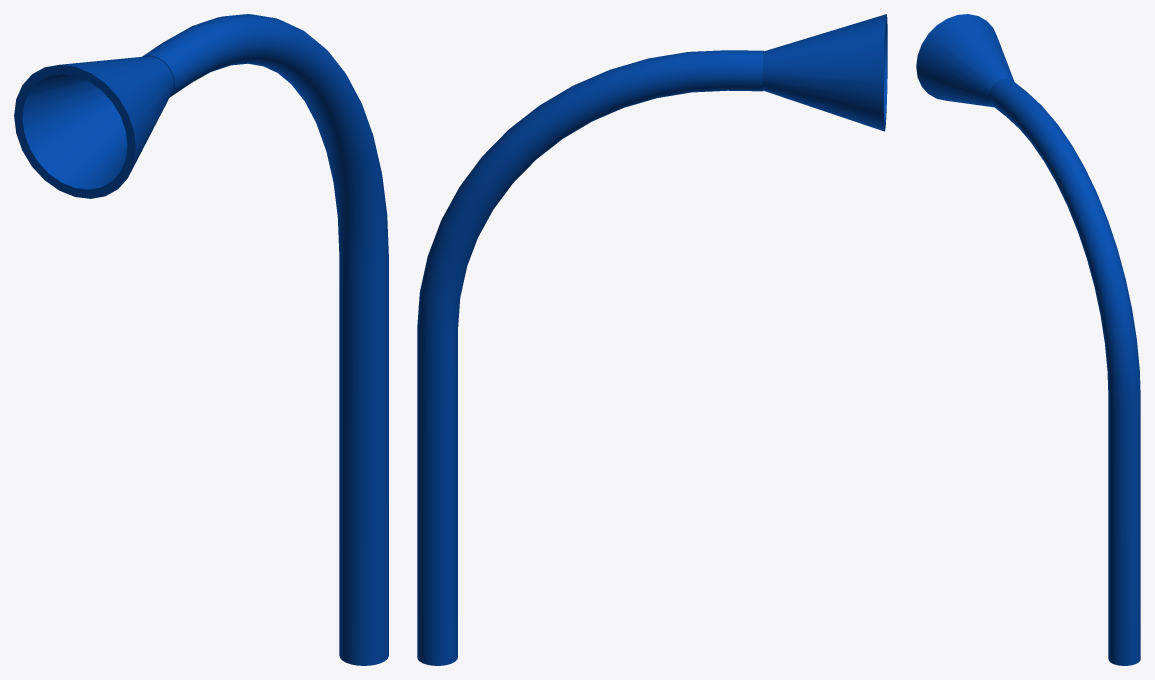
File: cosa_azul.dae
3 views of the same model, side by side, from view 1: azimuth 30°, elevation 25°; view 2: azimuth 150°, elevation 25°; view 3: azimuth 270°, elevation 25° (orthographic). The views are drawn at different scales.
Parts seen in each view (by area): view 1: SketchUp (×2); view 2: SketchUp (×2); view 3: SketchUp (×2).
Part boxes in pixels (x1,y1,x2,y2): SketchUp (×2): (14,14,388,665); SketchUp (×2): (417,14,887,665); SketchUp (×2): (916,14,1140,665).
Bounding box in the file's own units: 21.44 × 13.67 × 34.35.
